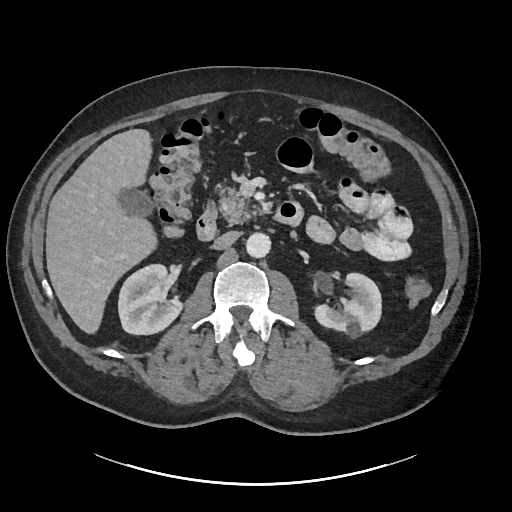Lesion: (346, 318, 360, 339)
